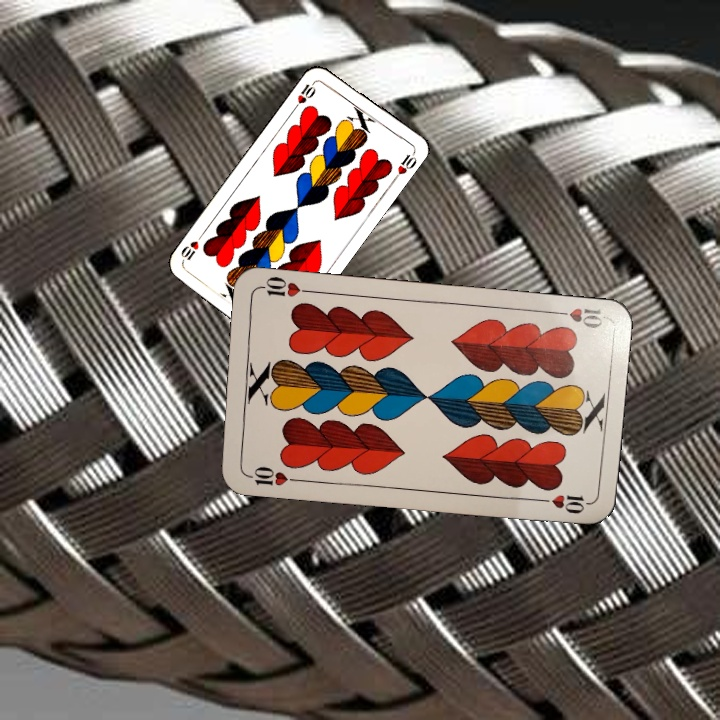H10: (547, 304, 607, 331), (241, 462, 301, 489), (290, 76, 319, 112)
